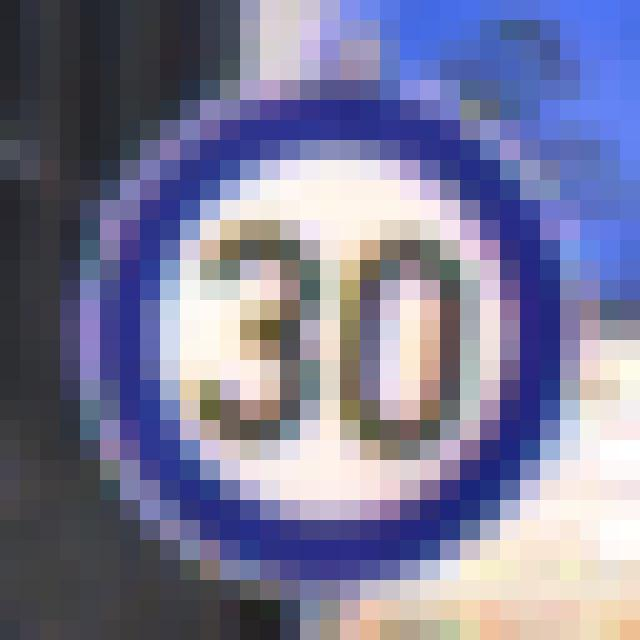SPEED LIMIT 30: (142, 118, 558, 540)
